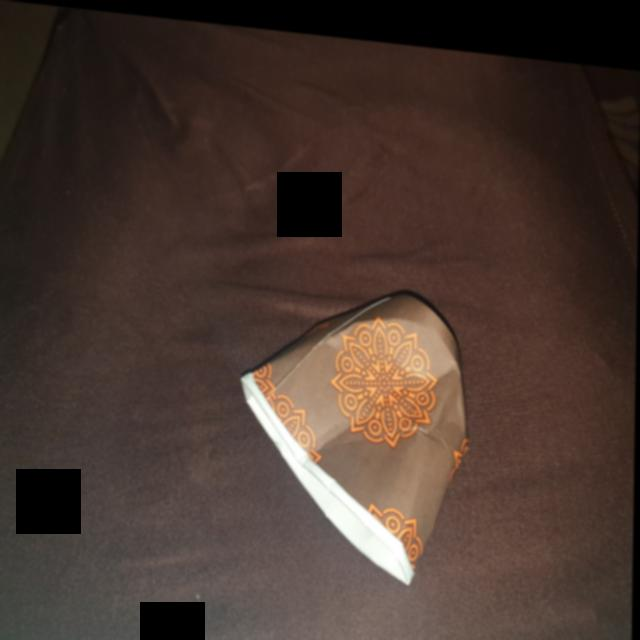cups: (234, 261, 482, 582)
